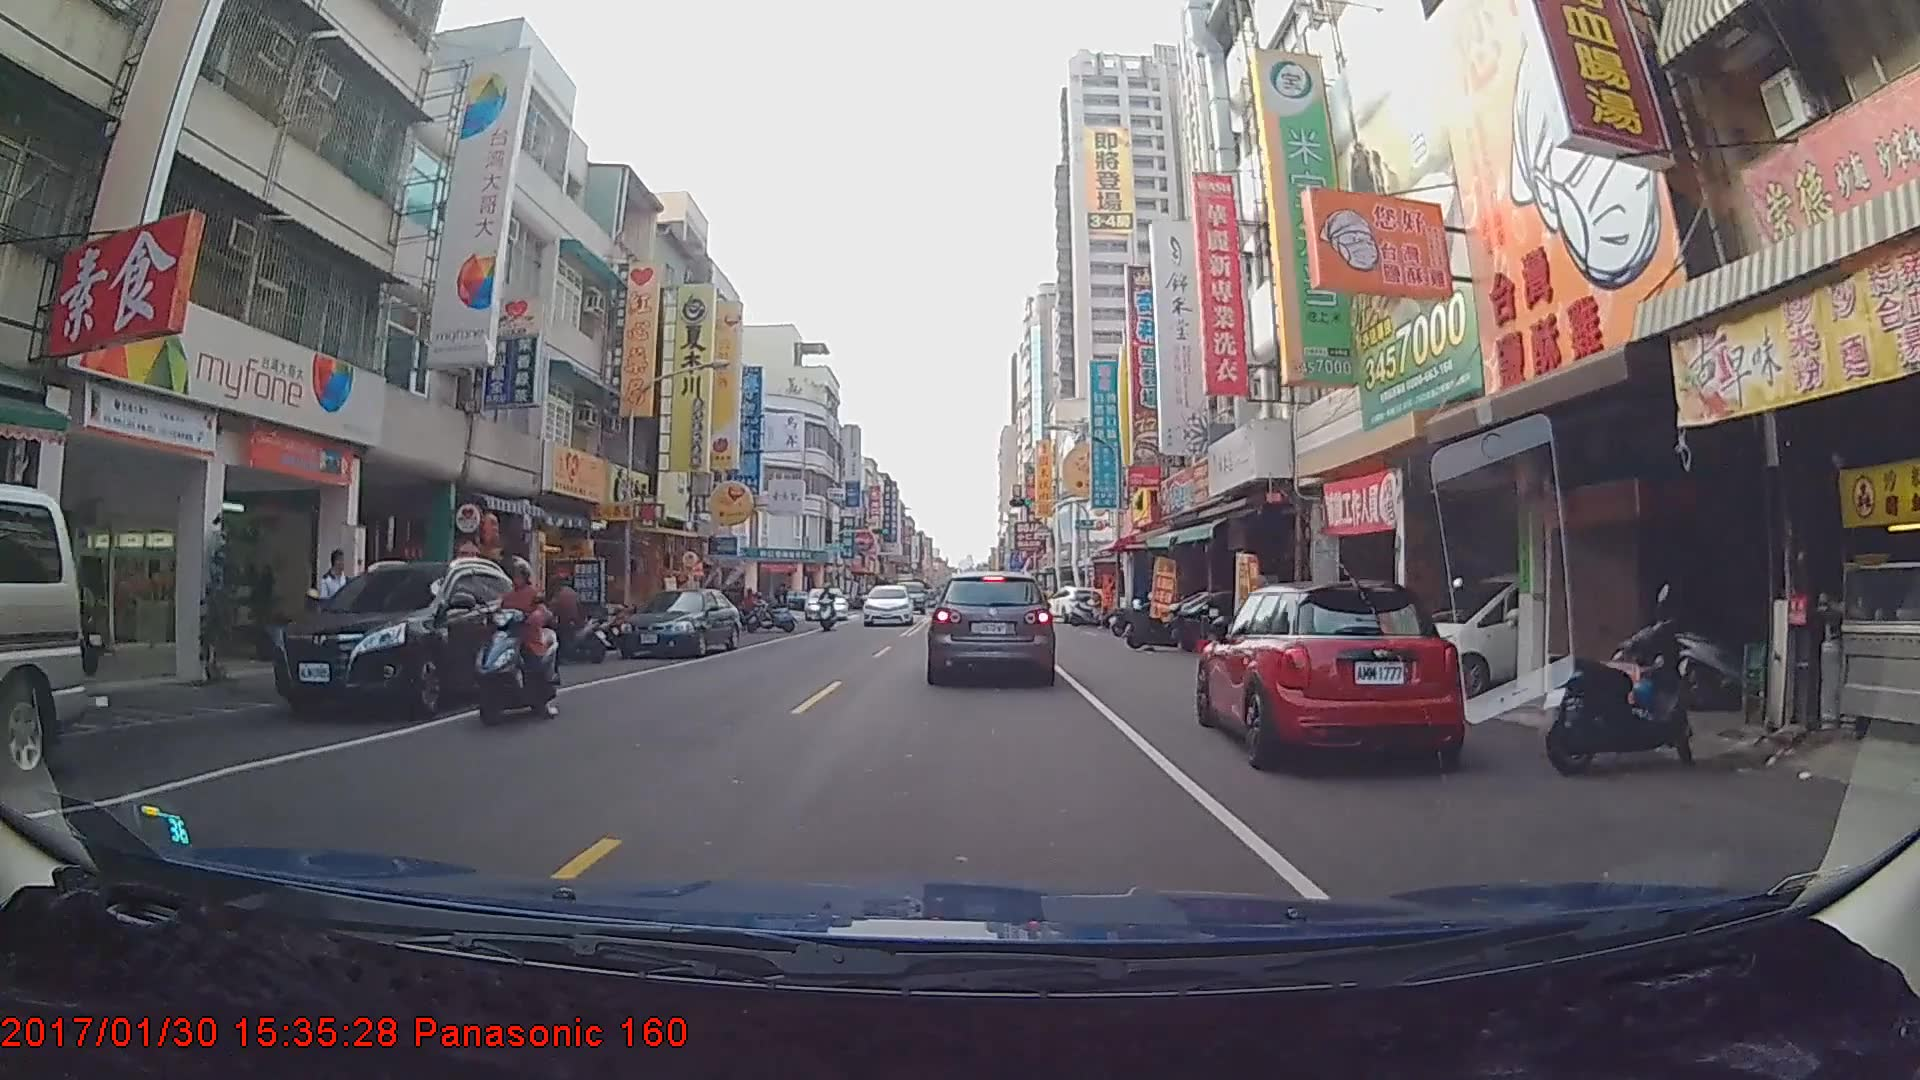rider: (465, 554, 561, 729), (815, 582, 843, 632)
vehicle: (1196, 575, 1461, 767), (272, 555, 538, 721), (0, 480, 88, 776), (930, 567, 1055, 684), (613, 587, 741, 658), (1041, 581, 1100, 621), (860, 584, 914, 626), (803, 585, 847, 618)
